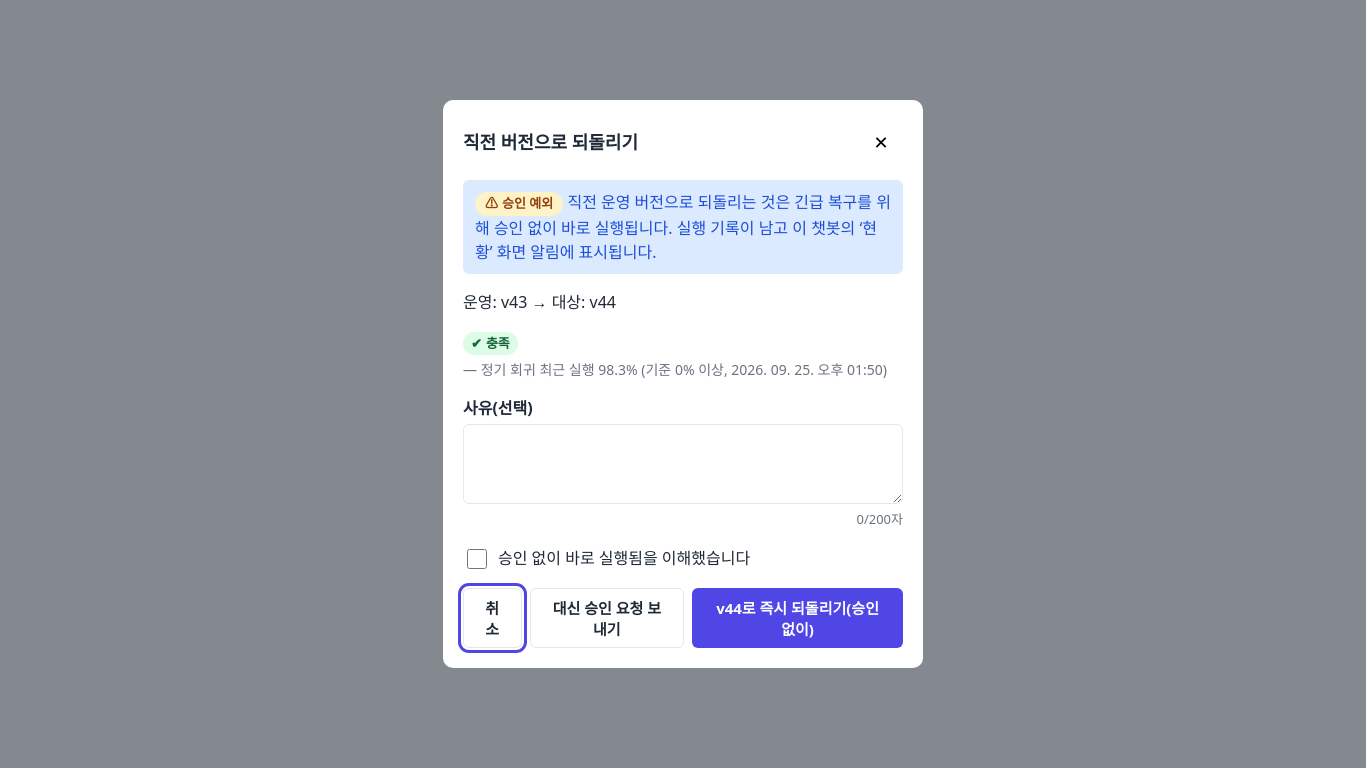
Test: ProdSwitchDialog — 단독 롤백 모드(직전 운영 버전) › "승인 예외" 배지와 긴급 복구 안내, 필수 체크가 있고 미체크로 확정하면 인라인 오류를 낸다
The image size is (1366, 768).
Expected: the dialog "직전 버전으로 되돌리기" is shown, [443,100,923,668]
Expected: the text "승인 예외" is shown, [502,194,553,212]
Click the button "v44로 즉시 되돌리기(승인 없이)". click: {"x": 798, "y": 618}
box: [692,588,903,648]
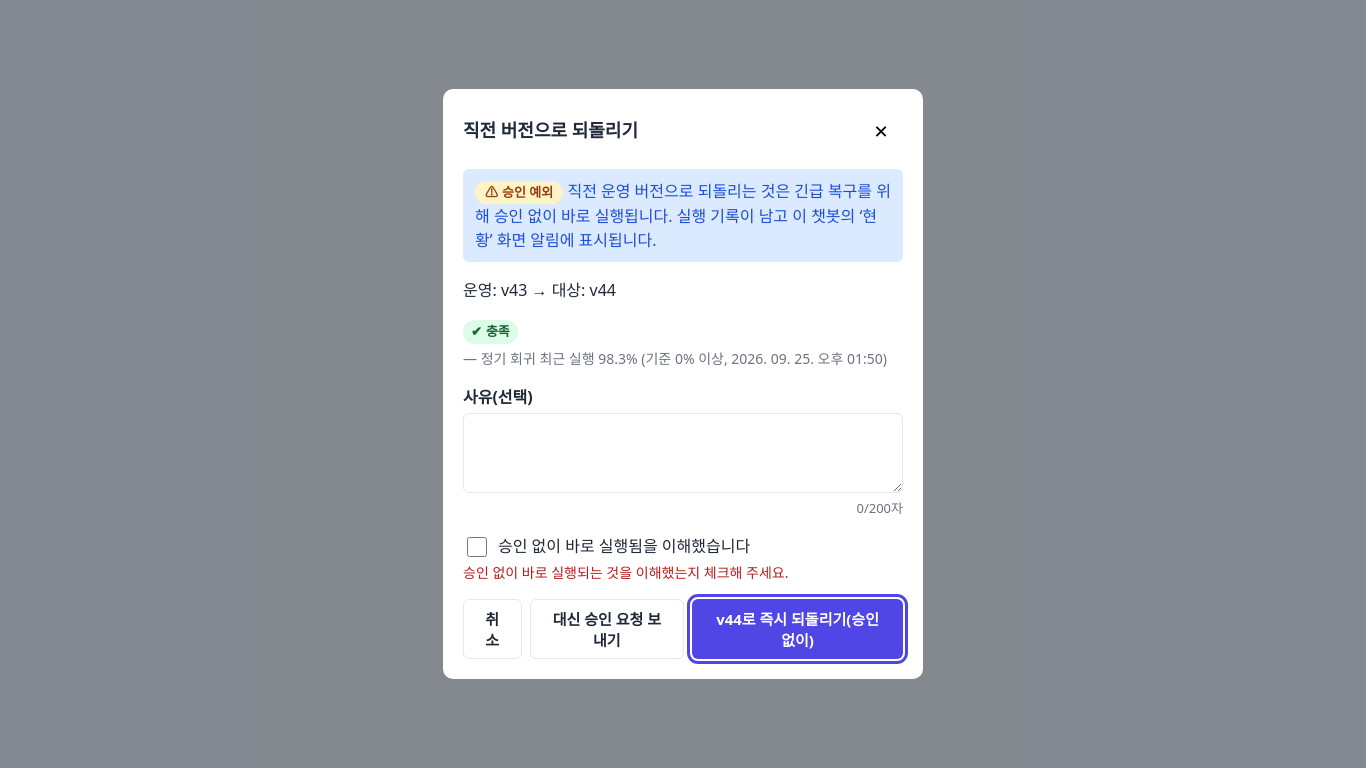
Result: the text "승인 없이 바로 실행되는 것을 이해했는지 체크해 주세요." is shown at [463,563,788,582]
